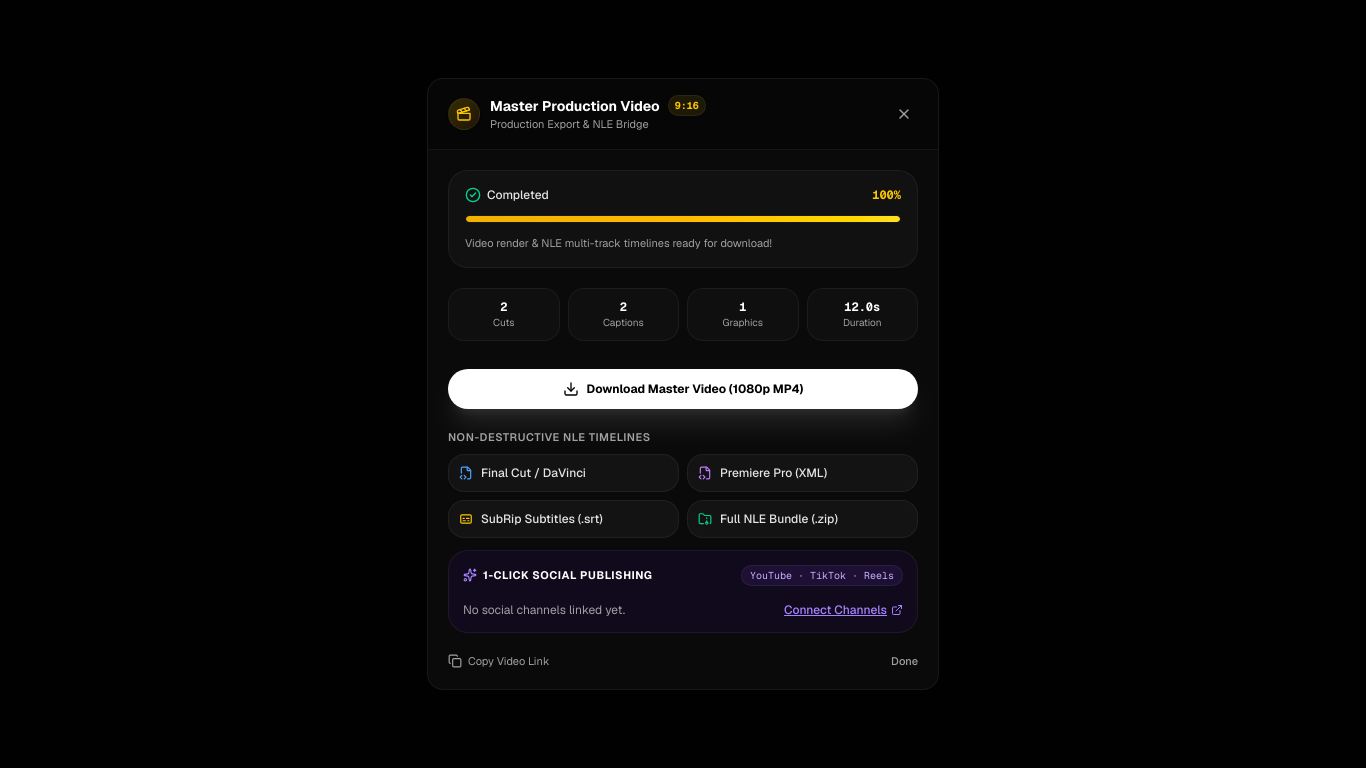
it: Phase 12: Production Render Bridge & Final Hardening › 2. Render Export Modal Lifecycle & Downloads › handles Copy Video Link button click
The width and height of the screenshot is (1366, 768).
Expected: the text "Copy Video Link" is shown, [468,652,549,669]
Click the button "Copy Video Link" at (499, 661), box [448,652,549,669]
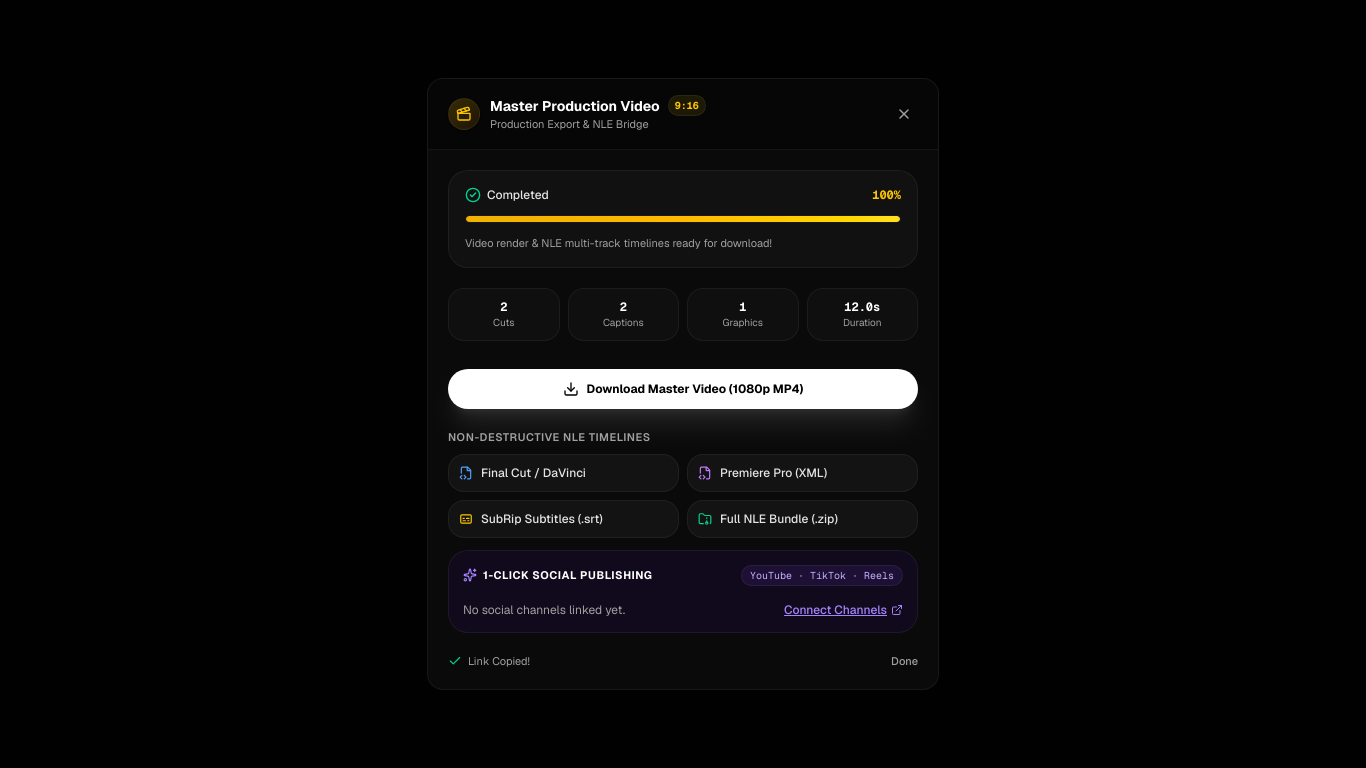
Result: the text "Link Copied!" is shown at [468,652,530,669]
